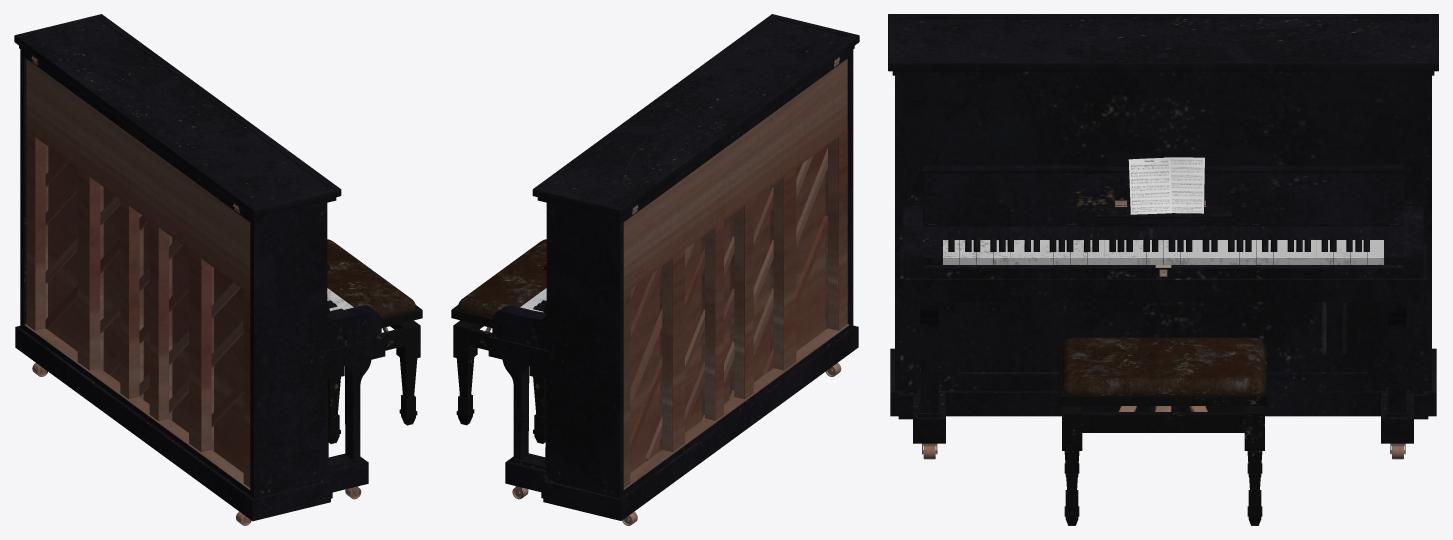
The model's file is dusty_old_piano.glb.
The picture shows the model from 3 angles, left to right: view 1: azimuth 30°, elevation 25°; view 2: azimuth 150°, elevation 25°; view 3: azimuth 270°, elevation 25°; orthographic projection. The views are drawn at different scales.
Visible parts, largest first — view 1: Frame, Top, Wood_thingy, Cussion, Feets; view 2: Frame, Top, Wood_thingy, Cussion, Feets; view 3: Frame, Top, Lid, Cussion, White_keys, Feets, Black_keys, Cussion_frame, Plane, Plane.1, Note_stand.
Boxes of the visible parts, bbox=[...] form: Frame: bbox=[15, 49, 385, 521]; Top: bbox=[14, 14, 341, 220]; Wood_thingy: bbox=[45, 157, 243, 427]; Cussion: bbox=[327, 239, 415, 317]; Feets: bbox=[328, 320, 420, 443]; Frame: bbox=[488, 49, 858, 520]; Top: bbox=[532, 14, 859, 220]; Wood_thingy: bbox=[630, 148, 828, 460]; Cussion: bbox=[458, 239, 546, 317]; Feets: bbox=[453, 320, 545, 443]; Frame: bbox=[890, 75, 1436, 443]; Top: bbox=[888, 14, 1438, 75]; Lid: bbox=[923, 164, 1403, 224]; Cussion: bbox=[1061, 337, 1265, 393]; White_keys: bbox=[943, 240, 1383, 264]; Feets: bbox=[1062, 406, 1264, 525]; Black_keys: bbox=[948, 237, 1369, 262]; Cussion_frame: bbox=[1059, 344, 1267, 405]; Plane: bbox=[1128, 157, 1171, 214]; Plane.1: bbox=[1164, 157, 1204, 213]; Note_stand: bbox=[1095, 200, 1231, 218].
Bounding box in the file's own units: 1.12 × 1.45 × 1.91.
Materials: 3 (3 with a texture image).
